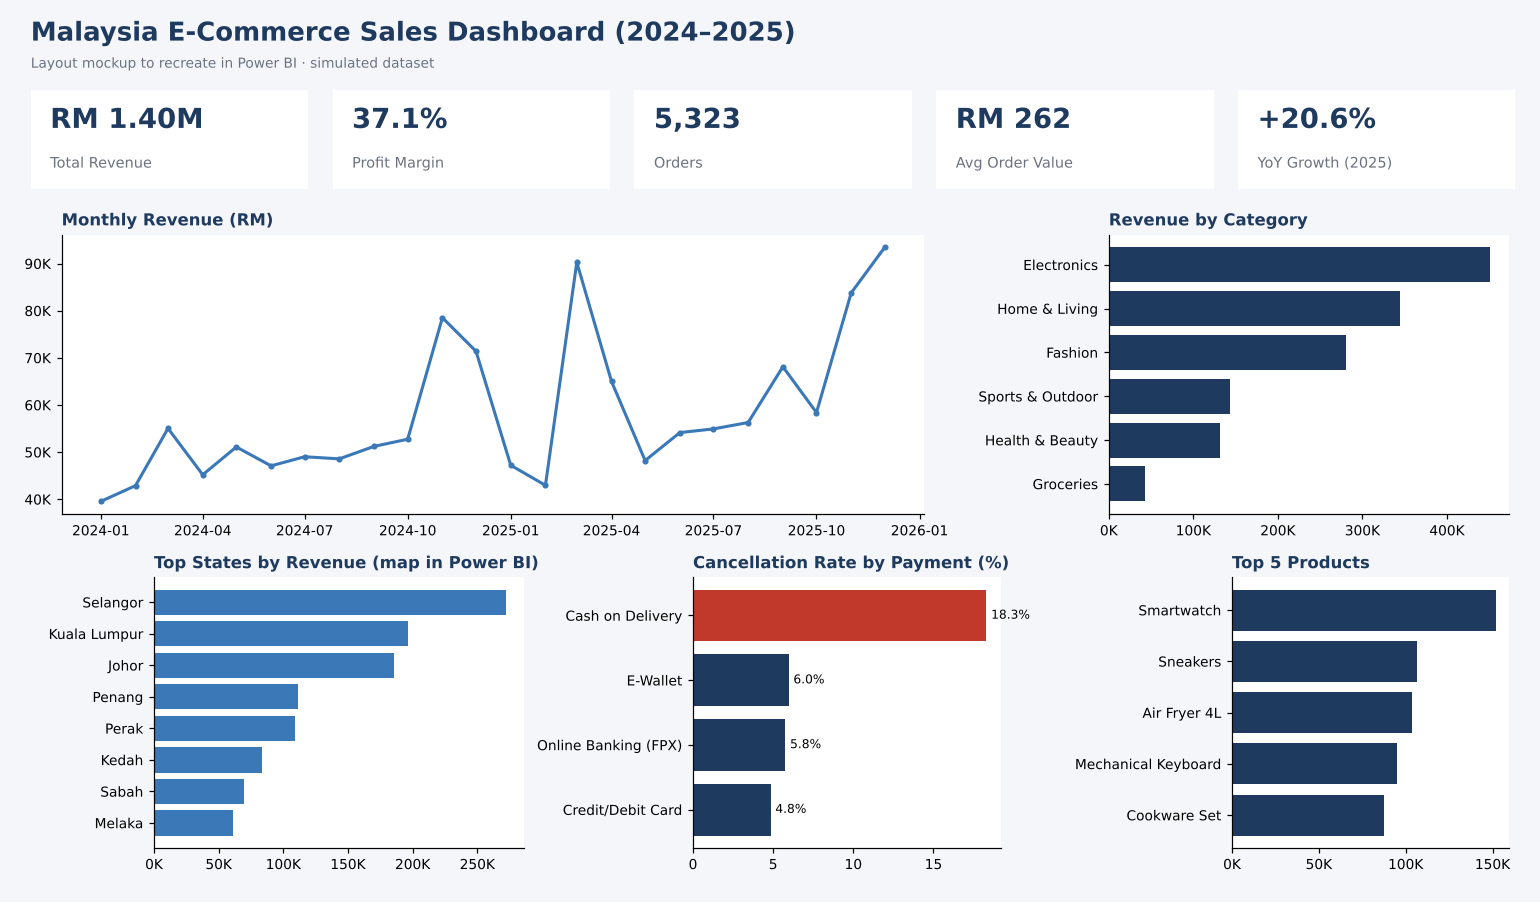

Layout of this report page (visuals, bound fields, positions):
{"tool":"powerbi","page":{"name":"Executive Overview","canvas":[1920,1080],"ordinal":0},"visuals":[{"type":"cardVisual","fields":{"Data":["fact_sales.Total Revenue","fact_sales.Profit Margin %","fact_sales.Orders","fact_sales.Avg Order Value","fact_sales.YoY Growth 2025"]},"box":[10,10,1260,120],"z":0},{"type":"lineChart","fields":{"Category":["dim_date.Year-Month"],"Y":["fact_sales.Total Revenue"]},"box":[10,140,760,300],"z":1},{"type":"clusteredBarChart","fields":{"Category":["dim_product.category_name"],"Y":["fact_sales.Total Revenue"]},"box":[790,140,480,300],"z":2},{"type":"clusteredBarChart","fields":{"Category":["dim_customer.state_name"],"Y":["fact_sales.Total Revenue"]},"box":[10,450,410,260],"z":3},{"type":"clusteredBarChart","fields":{"Category":["fact_sales.payment_method"],"Y":["fact_sales.Cancellation Rate %"]},"box":[430,450,410,260],"z":4},{"type":"clusteredBarChart","fields":{"Category":["dim_product.product_name"],"Y":["fact_sales.Total Revenue"]},"box":[850,450,420,260],"z":5}]}

Visuals, with their boxes on the page's 1920x1080 design canvas (x1, y1, x2, y2). These are canvas units, not pixel positions in the 1540x902 screenshot, which may show the page scaled, cropped or inside an application window:
cardVisual - fact_sales.Total Revenue x fact_sales.Profit Margin %: pyautogui.locateOnScreen(10, 10, 1270, 130)
lineChart - dim_date.Year-Month x fact_sales.Total Revenue: pyautogui.locateOnScreen(10, 140, 770, 440)
clusteredBarChart - dim_product.category_name x fact_sales.Total Revenue: pyautogui.locateOnScreen(790, 140, 1270, 440)
clusteredBarChart - dim_customer.state_name x fact_sales.Total Revenue: pyautogui.locateOnScreen(10, 450, 420, 710)
clusteredBarChart - fact_sales.payment_method x fact_sales.Cancellation Rate %: pyautogui.locateOnScreen(430, 450, 840, 710)
clusteredBarChart - dim_product.product_name x fact_sales.Total Revenue: pyautogui.locateOnScreen(850, 450, 1270, 710)
